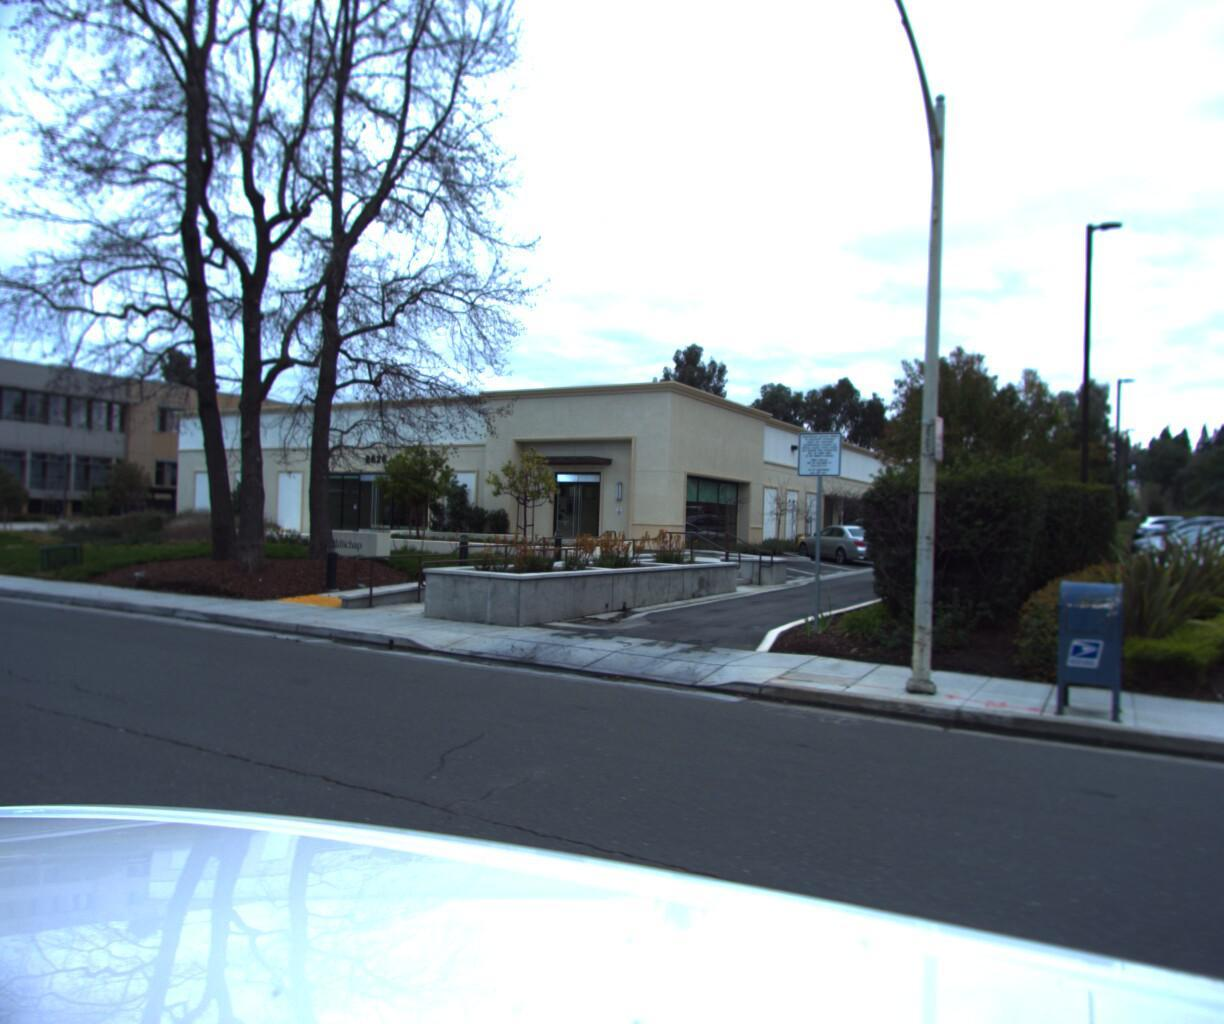car: (1116, 516, 1224, 626)
